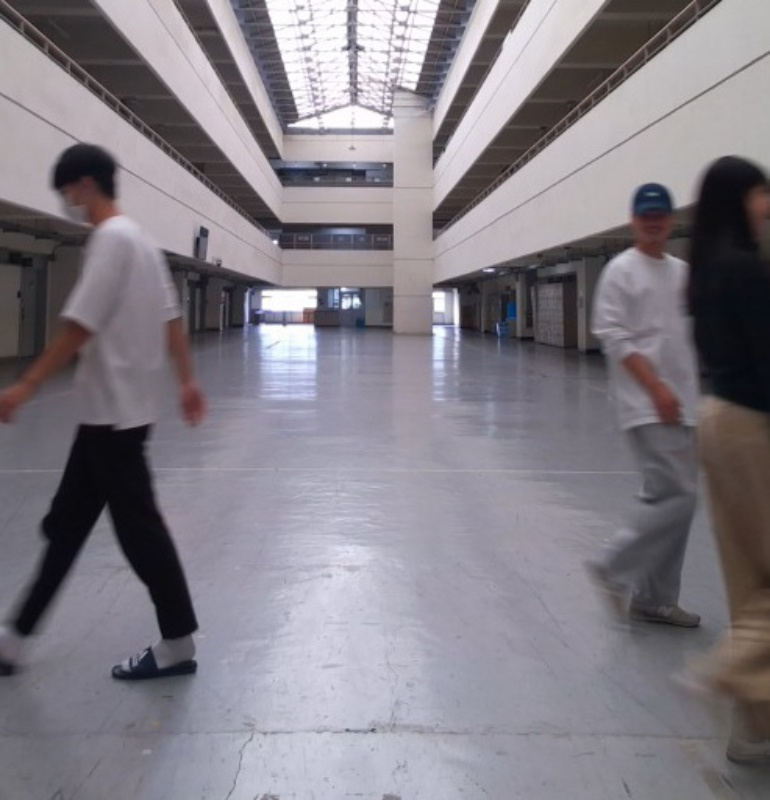person: (4, 140, 211, 686)
